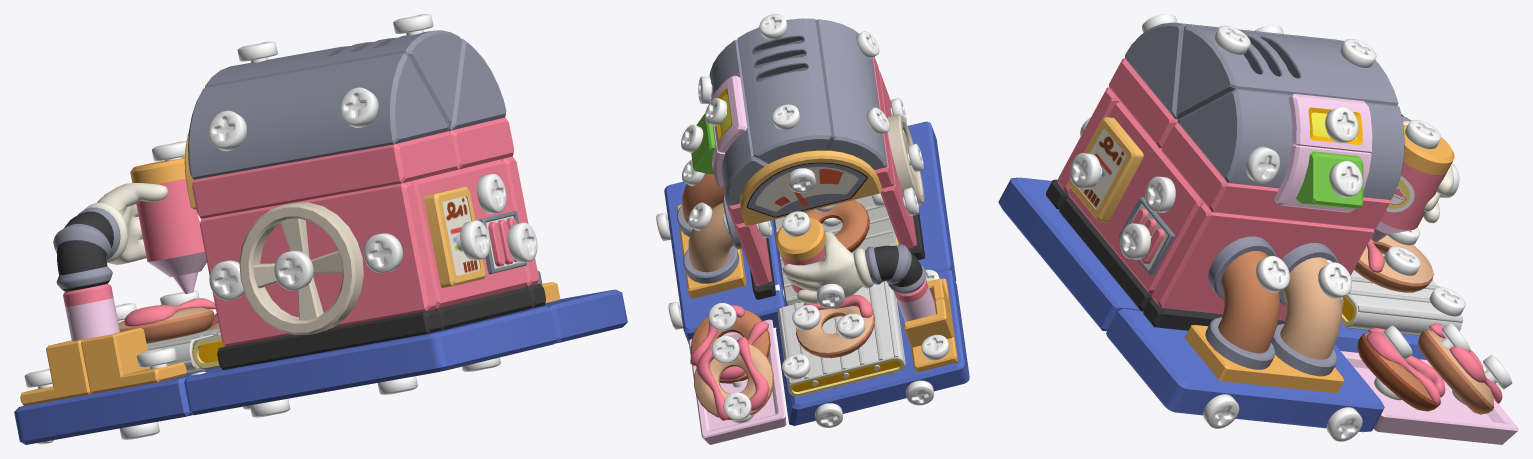
The model's file is AssemblyLine.fbx.
The picture shows the model from 3 angles, left to right: view 1: azimuth 30°, elevation 25°; view 2: azimuth 150°, elevation 25°; view 3: azimuth 270°, elevation 25°; orthographic projection. The views are drawn at different scales.
Parts seen in each view (by area): view 1: Board_AssemblyLine_18, Board_AssemblyLine_14, Board_AssemblyLine_28, Screw (×11), Board_AssemblyLine_15, Board_AssemblyLine_31, Board_AssemblyLine_2, Board_AssemblyLine_29, Board_AssemblyLine_17, Board_AssemblyLine_21, Board_AssemblyLine_11, Board_AssemblyLine_9 (+13 smaller); view 2: Screw (×25), Board_AssemblyLine_17, Board_AssemblyLine_0, Board_AssemblyLine_3, Board_AssemblyLine_18, Board_AssemblyLine_29, Board_AssemblyLine_2, Board_AssemblyLine_27, Board_AssemblyLine_28, Board_AssemblyLine_23, Board_AssemblyLine_5, Board_AssemblyLine_33 (+19 smaller); view 3: Screw (×16), Board_AssemblyLine_27, Board_AssemblyLine_17, Board_AssemblyLine_19, Board_AssemblyLine_13, Board_AssemblyLine_28, Board_AssemblyLine_32, Board_AssemblyLine_33, Board_AssemblyLine_16, Board_AssemblyLine_11, Board_AssemblyLine_5, Board_AssemblyLine_2 (+15 smaller).
Boxes of the visible parts, box(x1,y1,x2,y2) form: Board_AssemblyLine_18: box(188, 53, 448, 179); Board_AssemblyLine_14: box(200, 181, 436, 346); Board_AssemblyLine_28: box(184, 306, 556, 415); Screw (×11): box(136, 14, 537, 369); Board_AssemblyLine_15: box(192, 131, 457, 218); Board_AssemblyLine_31: box(239, 202, 363, 335); Board_AssemblyLine_2: box(84, 157, 206, 293); Board_AssemblyLine_29: box(14, 367, 221, 444); Board_AssemblyLine_17: box(205, 30, 461, 128); Board_AssemblyLine_21: box(217, 309, 440, 369); Board_AssemblyLine_11: box(411, 159, 527, 308); Board_AssemblyLine_9: box(53, 207, 120, 291); Screw (×25): box(656, 14, 949, 427); Board_AssemblyLine_17: box(737, 18, 832, 164); Board_AssemblyLine_0: box(739, 150, 882, 225); Board_AssemblyLine_3: box(777, 281, 905, 397); Board_AssemblyLine_18: box(816, 19, 887, 169); Board_AssemblyLine_29: box(776, 269, 969, 425); Board_AssemblyLine_2: box(776, 217, 873, 304); Board_AssemblyLine_27: box(664, 181, 785, 343); Board_AssemblyLine_28: box(774, 121, 956, 306); Board_AssemblyLine_23: box(694, 337, 773, 420); Board_AssemblyLine_5: box(688, 319, 786, 444); Board_AssemblyLine_33: box(683, 195, 742, 283); Screw (×16): box(1070, 25, 1512, 441); Board_AssemblyLine_27: box(1106, 308, 1384, 432); Board_AssemblyLine_17: box(1176, 25, 1398, 119); Board_AssemblyLine_19: box(1177, 89, 1404, 199); Board_AssemblyLine_13: box(1152, 202, 1373, 320); Board_AssemblyLine_28: box(998, 177, 1140, 331); Board_AssemblyLine_32: box(1205, 236, 1280, 369); Board_AssemblyLine_33: box(1271, 243, 1342, 376); Board_AssemblyLine_16: box(1161, 122, 1389, 228); Board_AssemblyLine_11: box(1068, 101, 1203, 294); Board_AssemblyLine_5: box(1340, 351, 1518, 444); Board_AssemblyLine_2: box(1371, 121, 1454, 241).
Bounding box in the file's own units: 10.64 × 9.52 × 10.18.
Materials: 3 (2 with a texture image).
